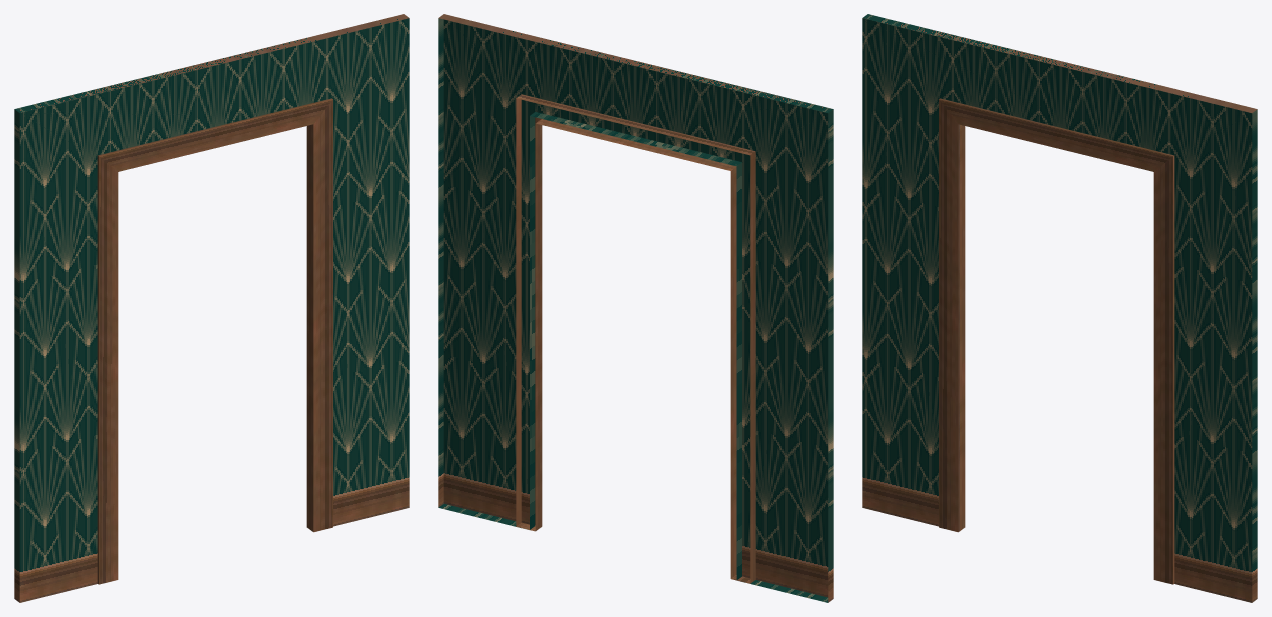
Rendered from doorway5.glb.
3 views of the same model, side by side, from view 1: azimuth 30°, elevation 25°; view 2: azimuth 150°, elevation 25°; view 3: azimuth 330°, elevation 25° (orthographic).
Parts seen in each view (by area): view 1: doorway5; view 2: doorway5; view 3: doorway5.
Part boxes in pixels (<box>): doorway5: <box>14,14,409,602</box>; doorway5: <box>438,14,833,602</box>; doorway5: <box>862,14,1257,602</box>.
Size of the model in its own units: 2 by 2.4 by 0.06.
Materials: 1 (1 with a texture image).
